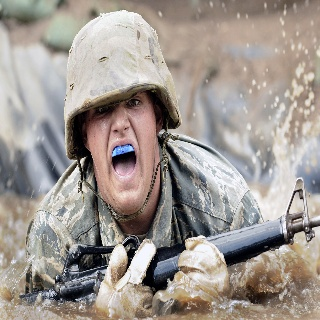rifle: (19, 176, 320, 306)
